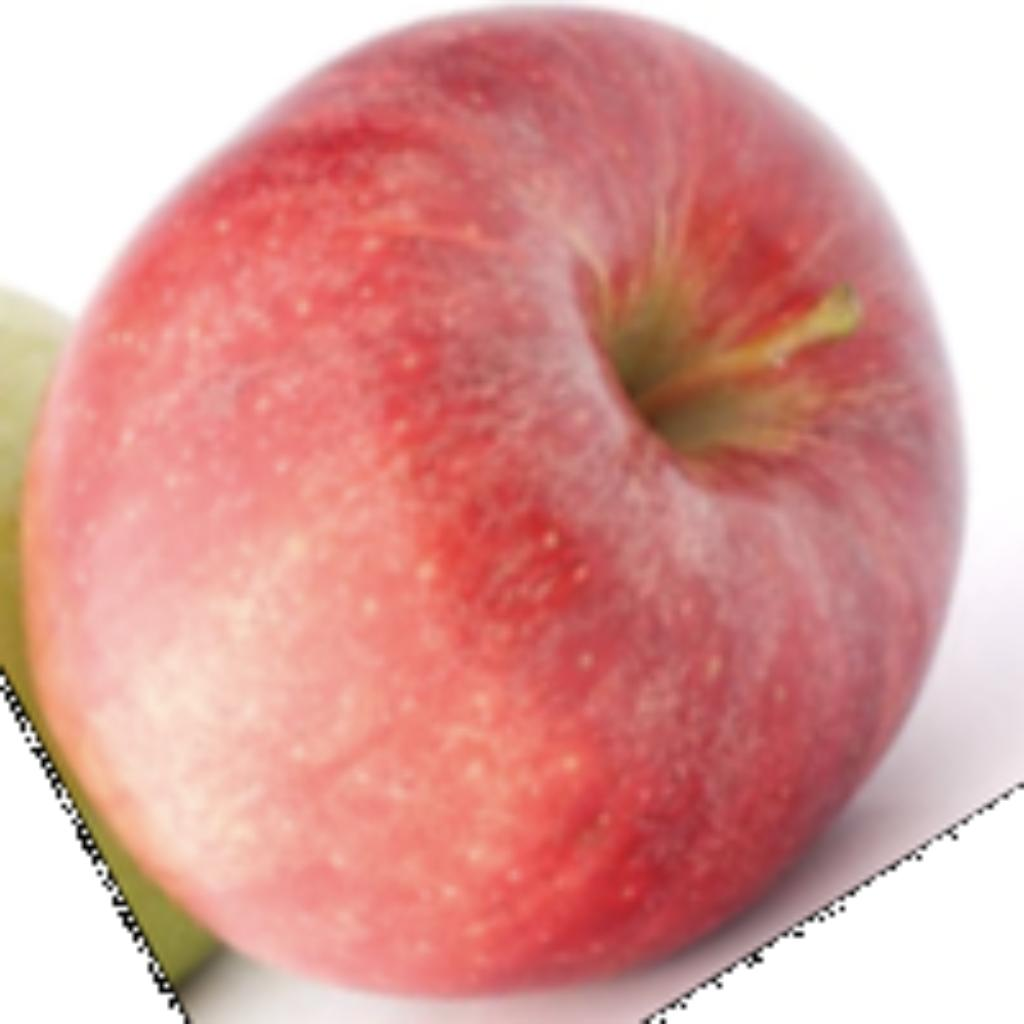apple: (0, 0, 1004, 1019)
